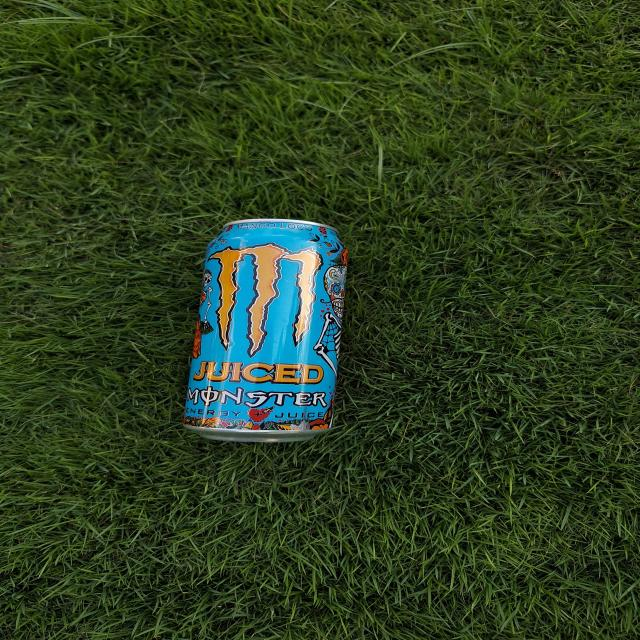Monster Mango Loco: (176, 218, 342, 442)
